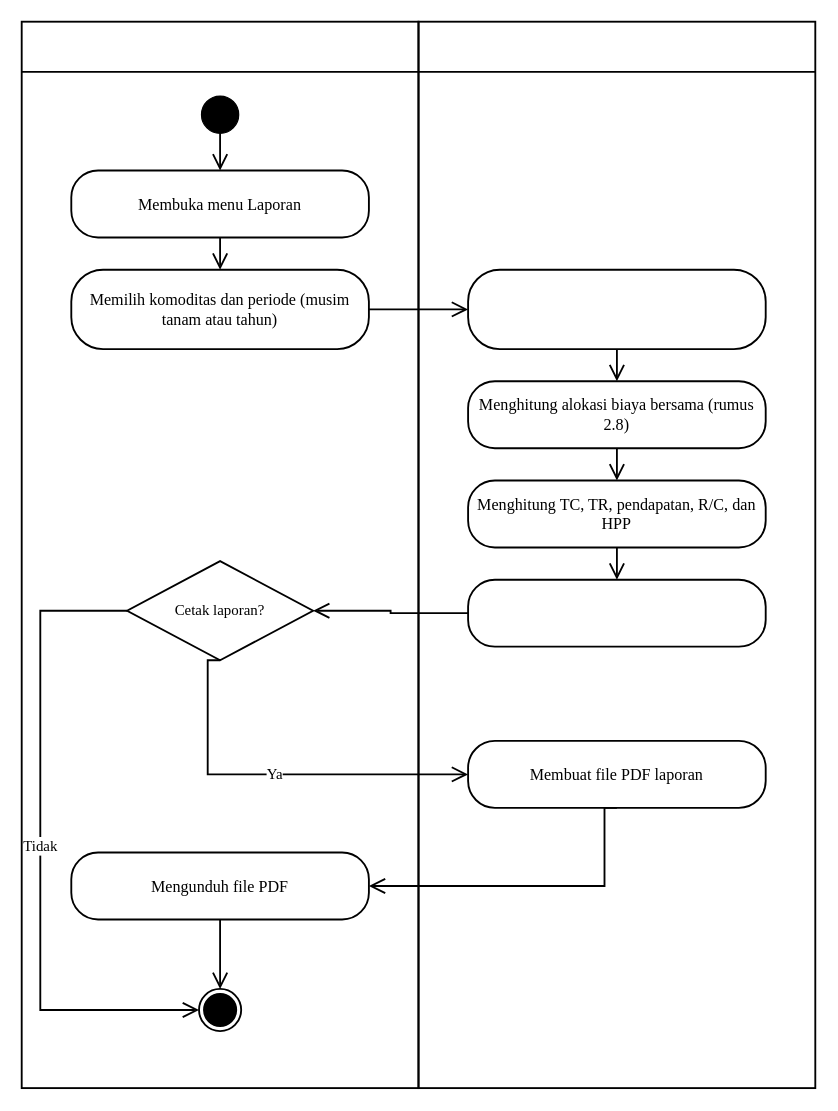
Some shapes in this 838 by 1111 pixel diagram are drawn without their labels. Each missing label, with the box of its shape:
Menampilkan laporan laba rugi: (467, 578, 766, 647)
Mengambil data pengeluaran, panen, dan penjualan: (467, 268, 766, 349)
Pemilik: (20, 20, 419, 1088)
Sistem: (417, 20, 816, 1088)
